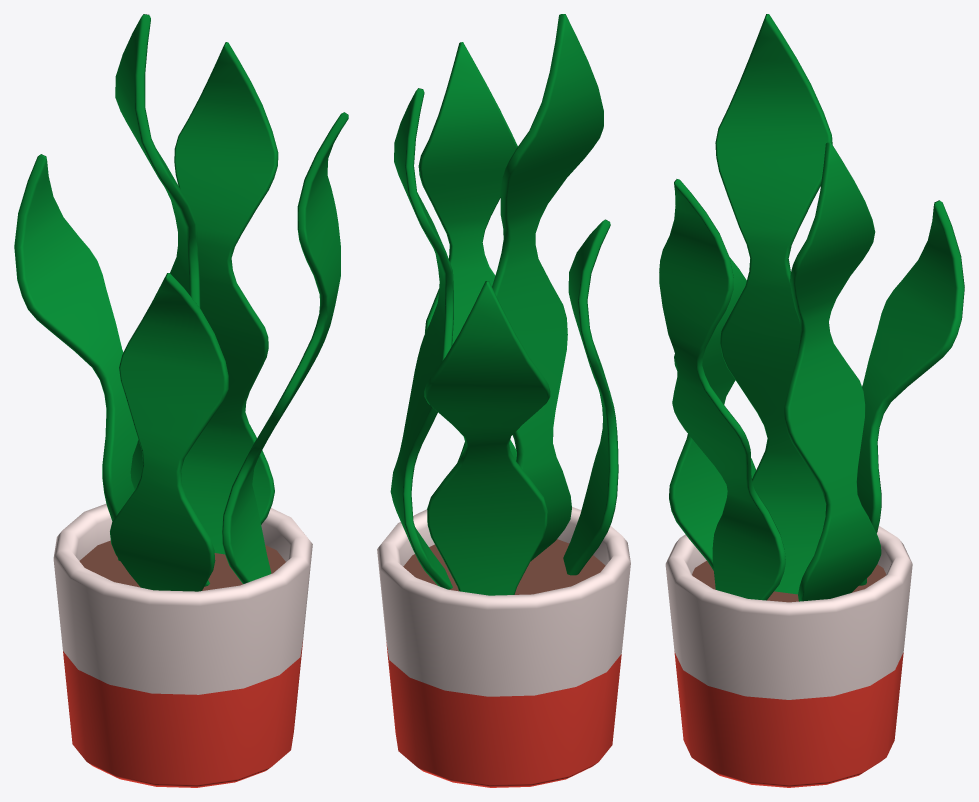
Rendered from City_2_Plant_1.glb.
The picture shows the model from 3 angles, left to right: view 1: azimuth 30°, elevation 25°; view 2: azimuth 150°, elevation 25°; view 3: azimuth 270°, elevation 25°; orthographic projection. The views are drawn at different scales.
Parts seen in each view (by area): view 1: City_2_Plant_1; view 2: City_2_Plant_1; view 3: City_2_Plant_1.
Part boxes in pixels (x1,y1,x2,y2): City_2_Plant_1: (14,14,348,787); City_2_Plant_1: (377,14,630,787); City_2_Plant_1: (659,14,964,787).
Size of the model in its own units: 0.6738 by 2.08 by 0.8122.
Materials: 1 (1 with a texture image).
